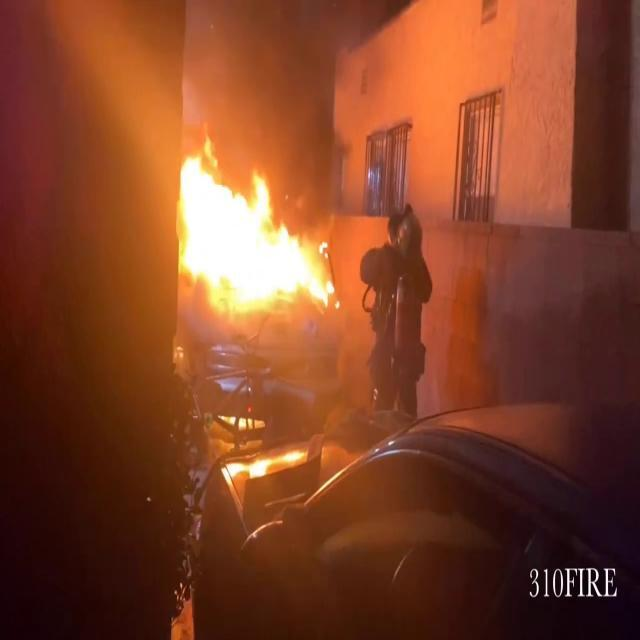Fire: (171, 138, 343, 316)
